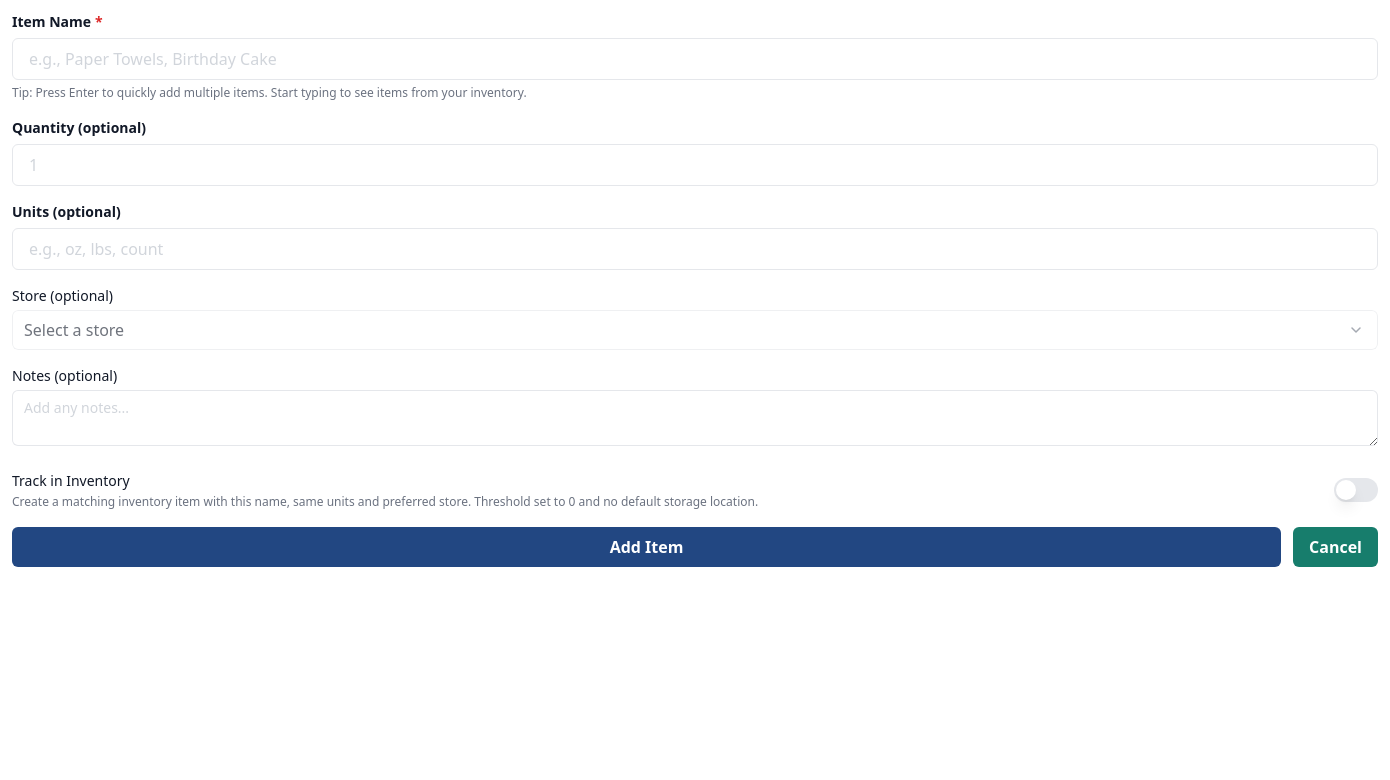
it: AddItemForm Component › displays error message from submission failure
Type "Milk" into the field labelled "Item Name*" at (695, 59), box [12,38,1378,80]
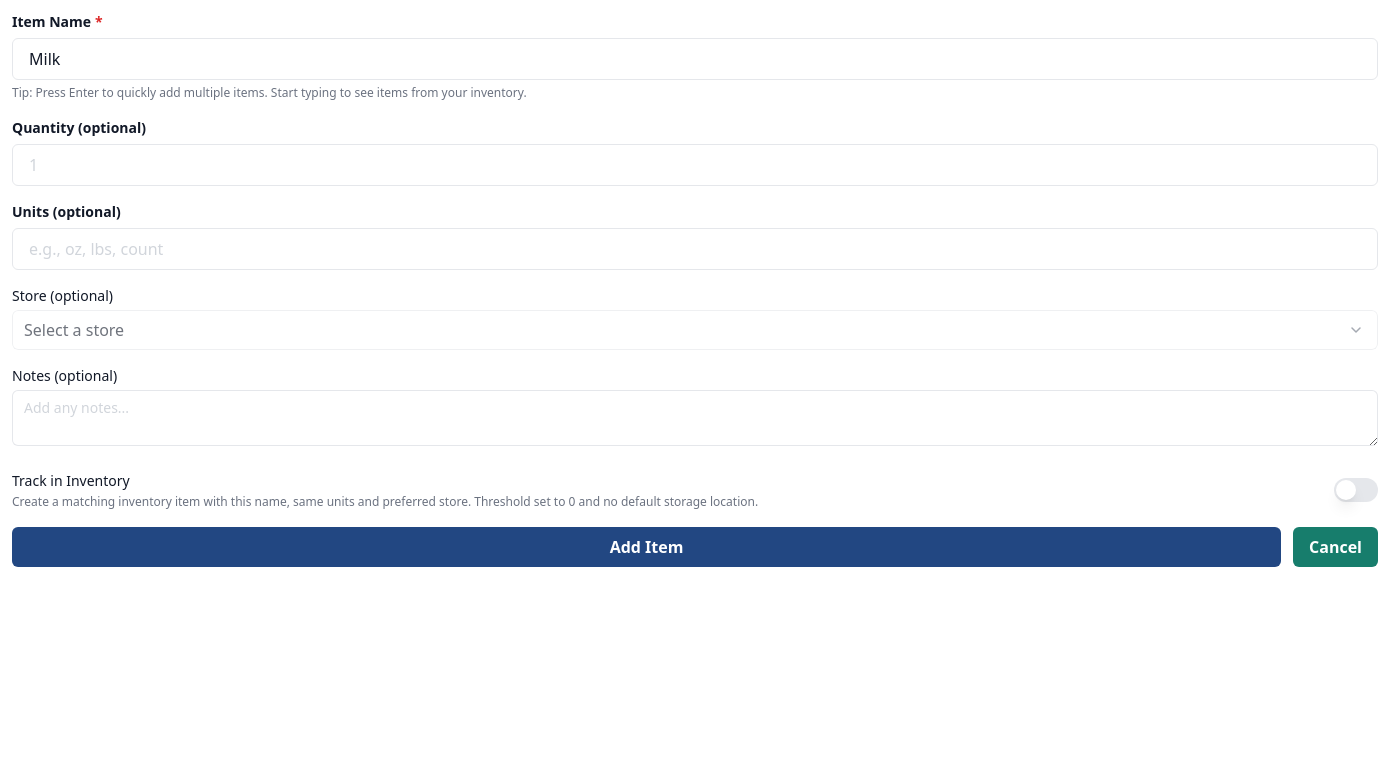
Click the button "Add Item" at (647, 547), box [12,527,1281,567]
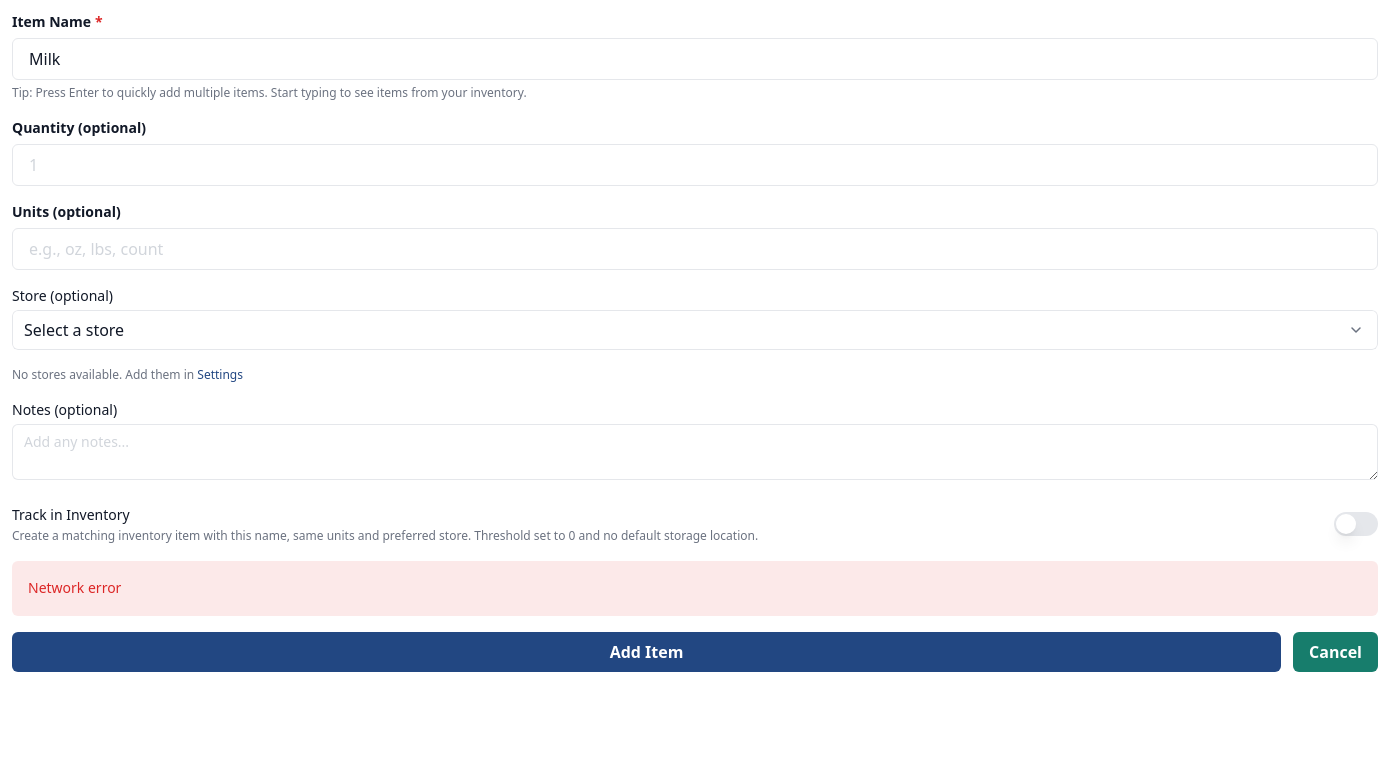
Check: the text "Network error" is shown, box [28,578,121,597]
